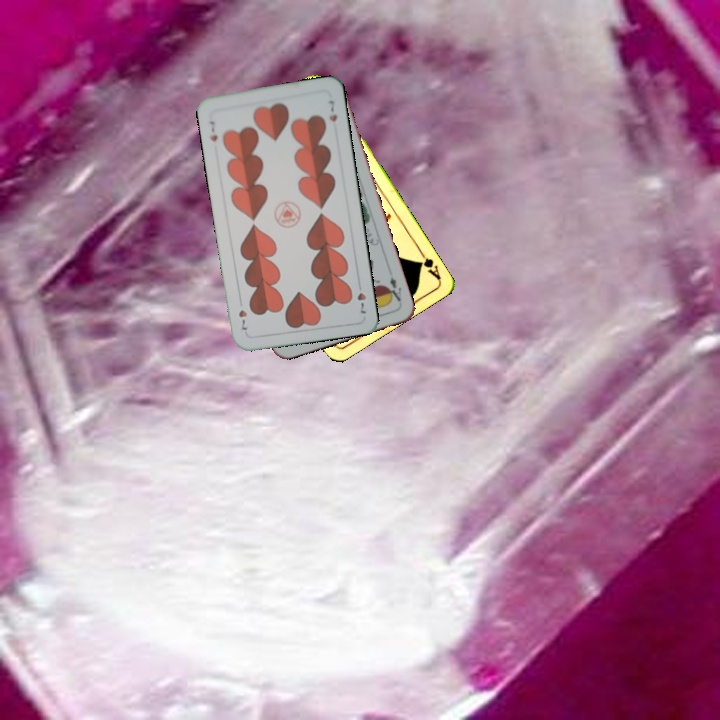EA: (382, 273, 404, 304)
GA: (414, 245, 443, 282)
H7: (353, 288, 369, 316), (205, 117, 220, 144)
